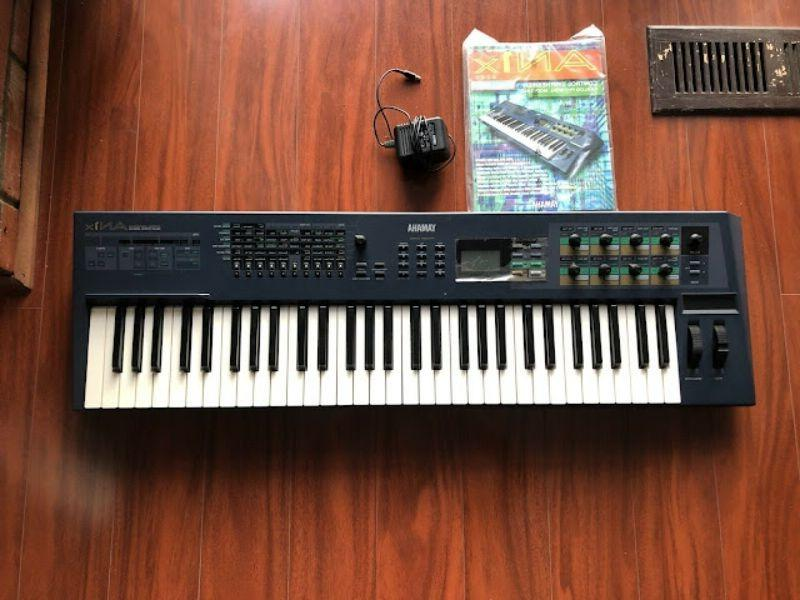synthesizer: (57, 206, 763, 413)
